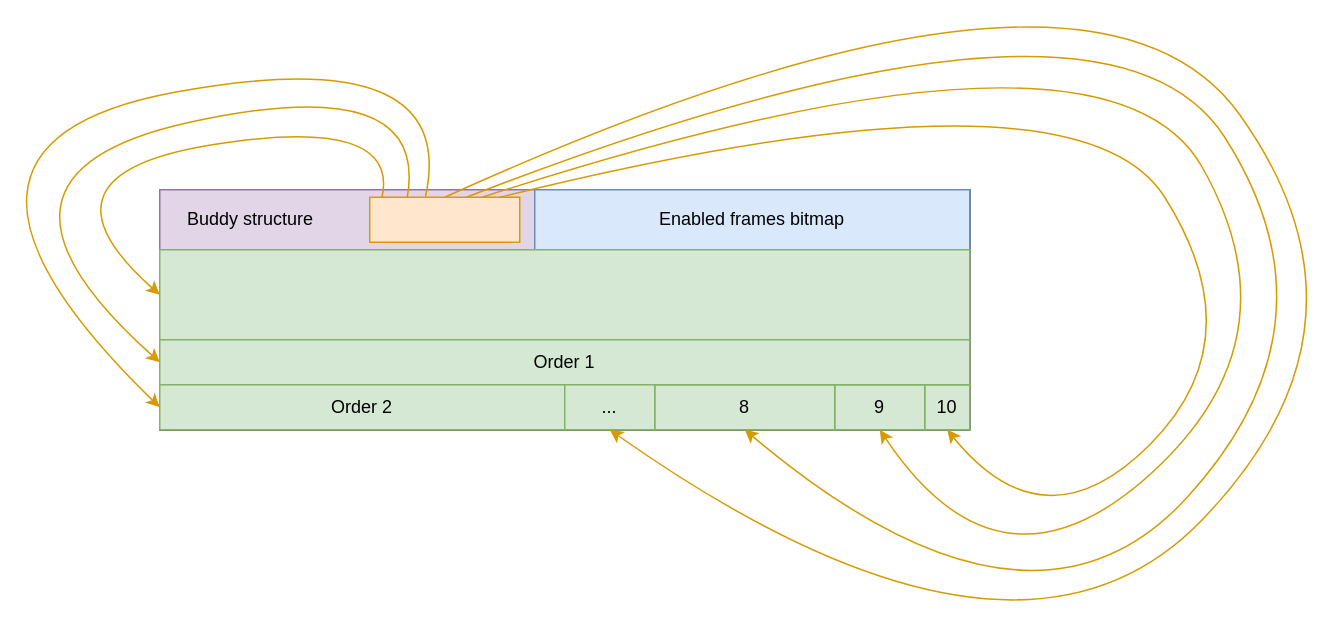
This 1334x626 diagram has some shape labels left out. Each missing label, with the centre of its shape:
Order 0: the point at 564,294
Order array: the point at 444,219
